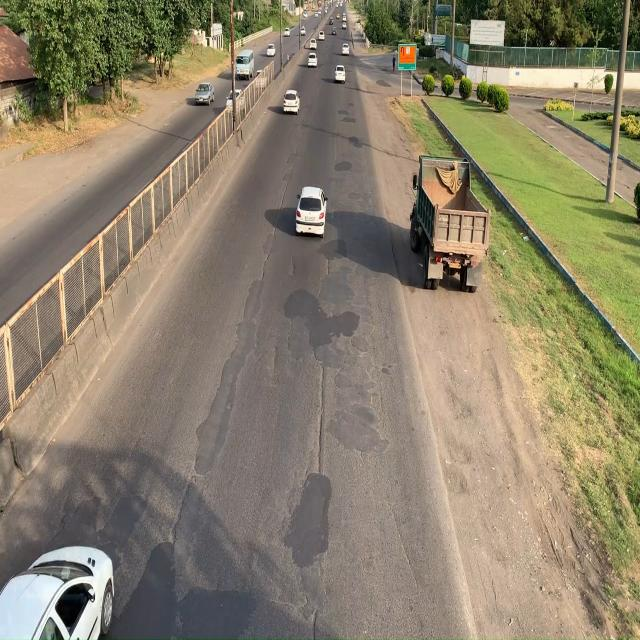Truck: (411, 150, 494, 290)
cars: (0, 544, 114, 640), (297, 186, 326, 238)
